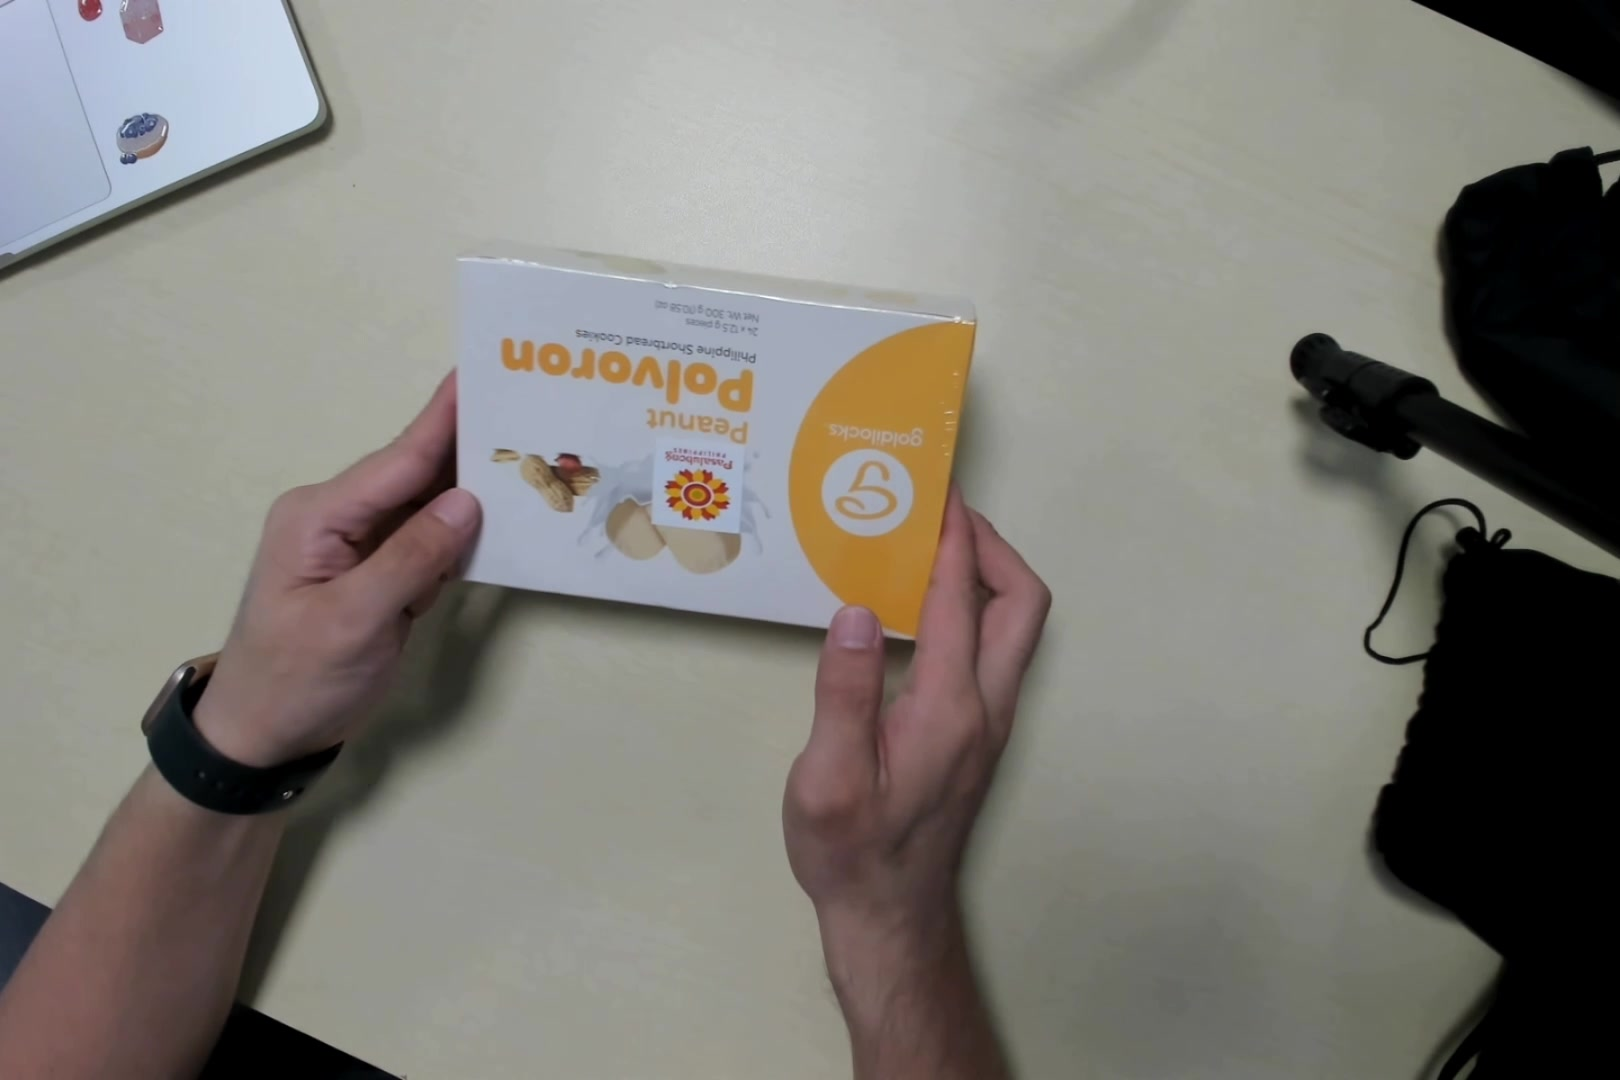SweetsChocolatesOthers_300-399g_Halal_NonHealthy: (454, 242, 972, 646)
